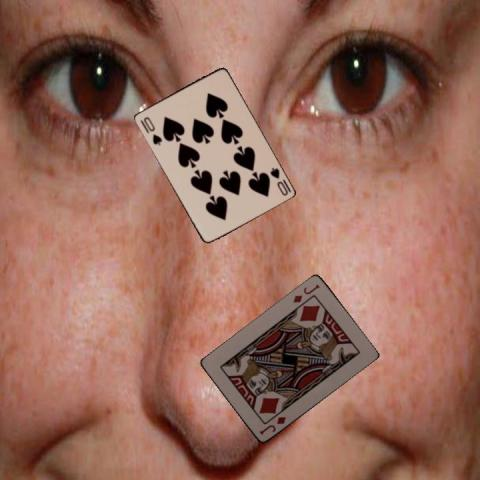10s: (140, 114, 163, 146), (267, 164, 289, 197)
Jd: (290, 281, 321, 305), (256, 414, 287, 437)
